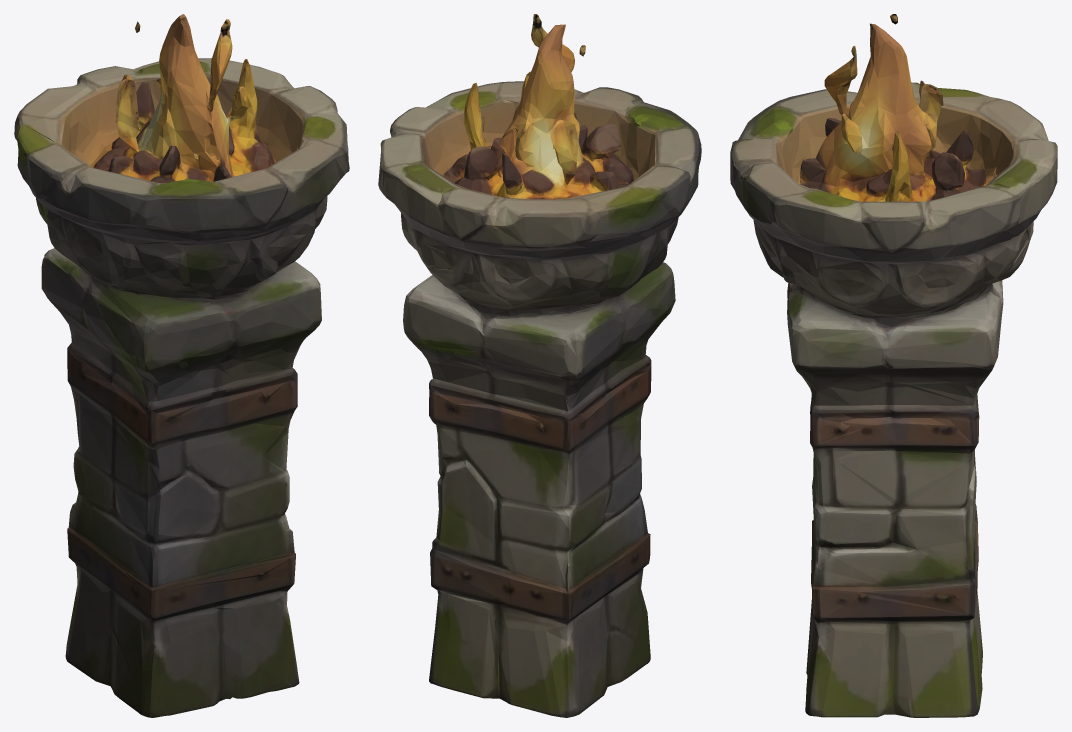
Rendered from torch.glb.
The picture shows the model from 3 angles, left to right: view 1: azimuth 30°, elevation 25°; view 2: azimuth 150°, elevation 25°; view 3: azimuth 270°, elevation 25°; orthographic projection. The views are drawn at different scales.
Visible parts, largest first — view 1: world; view 2: world; view 3: world.
Boxes of the visible parts, <box> form: world: <box>14,14,349,717</box>; world: <box>378,14,701,717</box>; world: <box>730,14,1057,717</box>.
Bounding box in the file's own units: 0.4573 × 0.9999 × 0.4558.
1 material, 1 textured.
